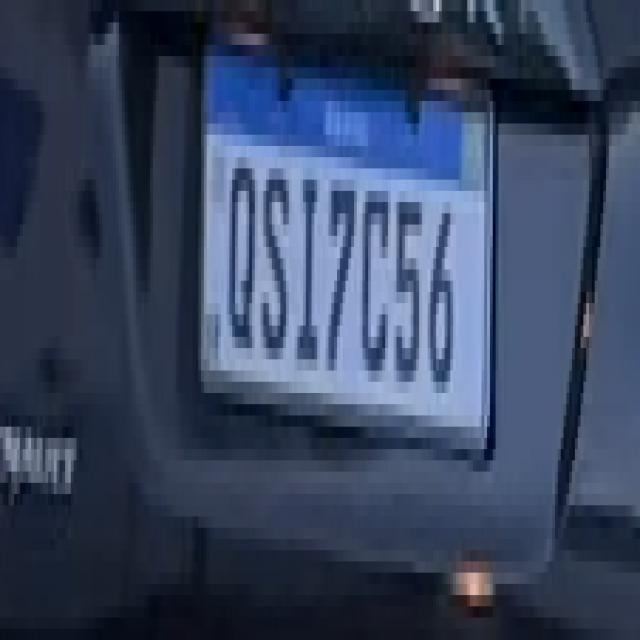Placa_mercosul_carro: (202, 34, 494, 447)
